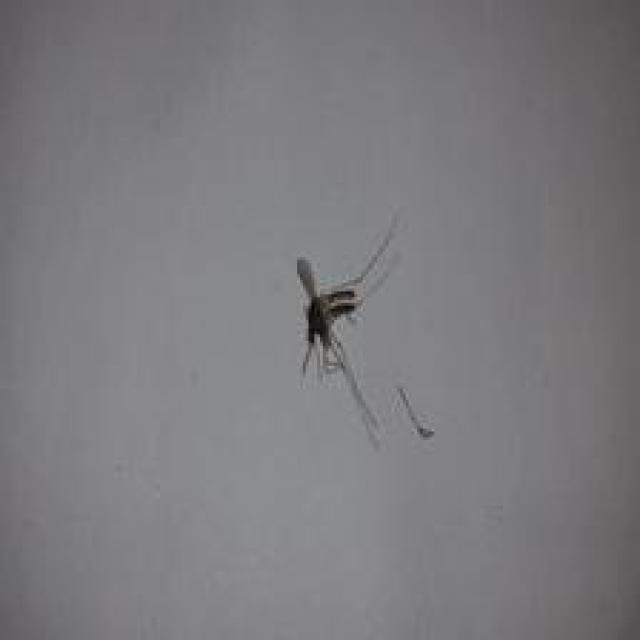Culex: (293, 213, 436, 450)
